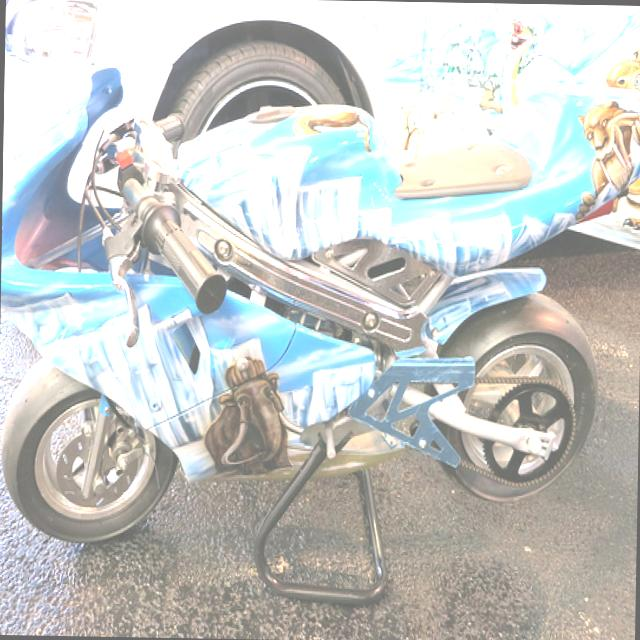Vehicle: (0, 76, 629, 552), (2, 0, 640, 183)
